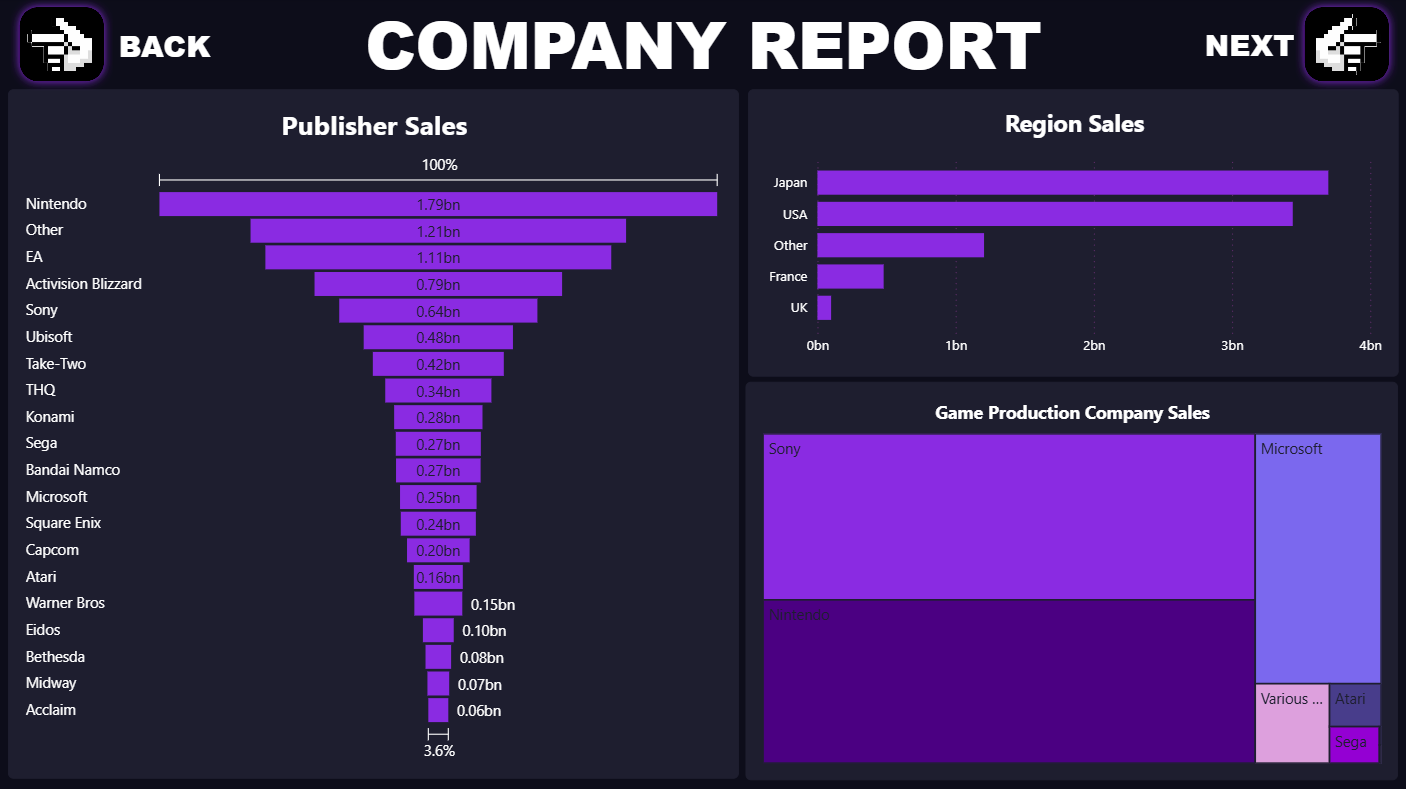

The dashboard page shown, as its layout file describes it:
{"tool":"powerbi","page":{"name":"COMPANY REPORT","canvas":[1280,720],"ordinal":3},"visuals":[{"type":"textbox","title":"COMPANY REPORT ","box":[258.5,0,762.9,74.7],"z":0},{"type":"funnel","title":"Publisher Sales","fields":{"Y":["Sum(Fact_Sales.Total_Sales_Mill)"],"Category":["Dim_Company.Publisher_Category"]},"box":[8.5,83,663.5,625.4],"z":1000},{"type":"treemap","title":"Game Production Company Sales","fields":{"Group":["Dim_platform.Platform_Category"],"Values":["Sum(Fact_Sales.Total_Sales_Mill)"]},"box":[678.8,347.8,591.8,361.5],"z":2000},{"type":"barChart","title":"Region Sales","fields":{"Category":["Dim_Company.Region"],"Y":["Sum(Fact_Sales.Total_Sales_Mill)"]},"box":[680.3,82.4,590.6,260.8],"z":3000},{"type":"actionButton","box":[11.6,0,93,83.9],"z":4000},{"type":"textbox","title":"BACK","box":[105.9,23.5,91.5,39.7],"z":5000},{"type":"textbox","title":"NEXT","box":[1080.8,22.9,109.8,39.7],"z":6000},{"type":"actionButton","box":[1177.5,0,93,83.9],"z":7000}]}

Visuals, with their boxes in screenshot pixels (x1, y1, x2, y2), scaled from the page's 1280x720 canvas onto the 1406x789 screenshot:
"COMPANY REPORT " textbox: x1=284 y1=0 x2=1122 y2=82
"Publisher Sales" funnel: x1=9 y1=91 x2=738 y2=776
"Game Production Company Sales" treemap: x1=746 y1=381 x2=1396 y2=777
"Region Sales" barChart: x1=747 y1=90 x2=1396 y2=376
actionButton: x1=13 y1=0 x2=115 y2=92
"BACK" textbox: x1=116 y1=26 x2=217 y2=69
"NEXT" textbox: x1=1187 y1=25 x2=1308 y2=69
actionButton: x1=1293 y1=0 x2=1396 y2=92
